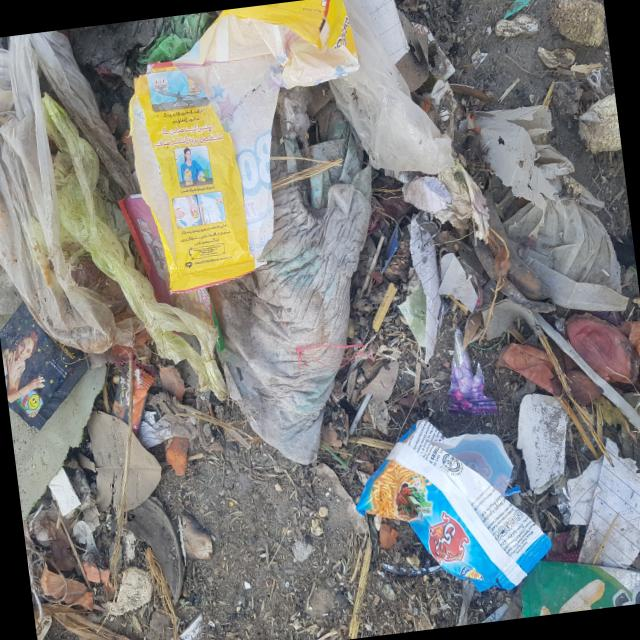electronic: (338, 383, 556, 604), (121, 60, 258, 297), (0, 291, 98, 434), (515, 549, 633, 616), (116, 188, 176, 311)
general: (0, 30, 149, 369)
